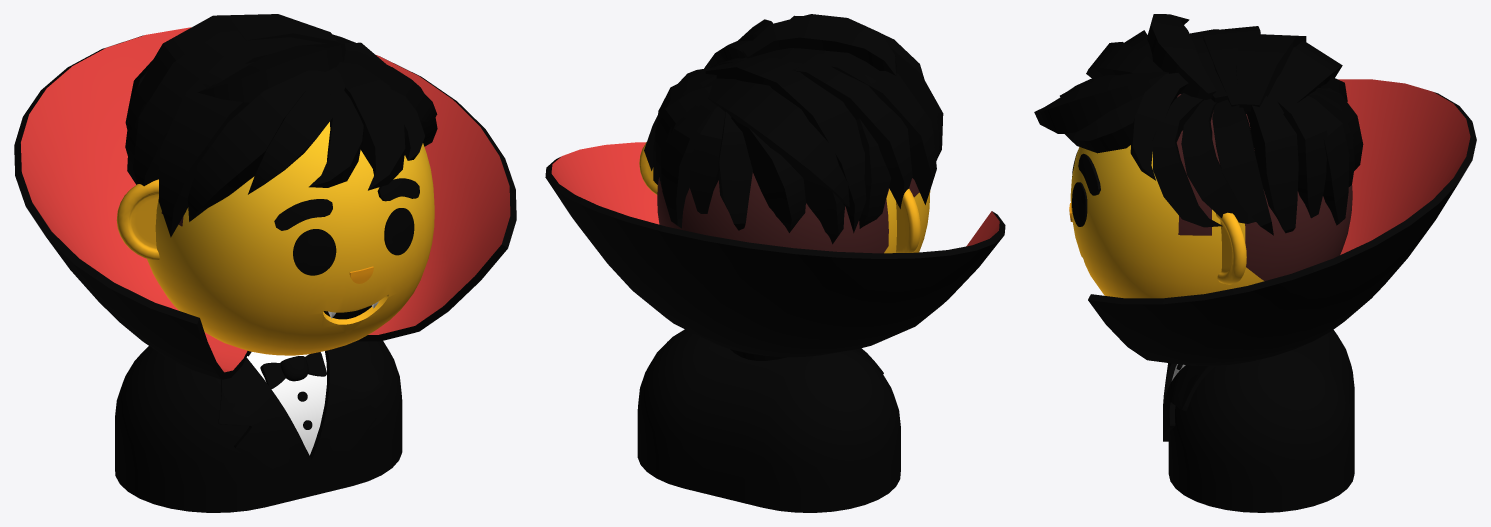
File: vampire.fbx
The picture shows the model from 3 angles, left to right: view 1: azimuth 30°, elevation 25°; view 2: azimuth 150°, elevation 25°; view 3: azimuth 270°, elevation 25°; orthographic projection. The views are drawn at different scales.
Parts seen in each view (by area): view 1: Circle.1025, Cube.2541, Roundcube.217, Sphere.172, Circle.1022, Circle.1019, Cylinder.185, Circle.1021, Circle.1023, Cube.2549; view 2: Cube.2541, Circle.1025, Sphere.172, Roundcube.217, Cylinder.185; view 3: Cube.2541, Circle.1025, Sphere.172, Roundcube.217, Circle.1022, Cylinder.185, Circle.1019, Circle.1021.
Boxes of the visible parts, x1=… form: Circle.1025: x1=14, y1=27, x2=516, y2=379; Cube.2541: x1=125, y1=14, x2=437, y2=237; Roundcube.217: x1=147, y1=122, x2=434, y2=355; Sphere.172: x1=115, y1=341, x2=402, y2=512; Circle.1022: x1=218, y1=341, x2=383, y2=482; Circle.1019: x1=293, y1=208, x2=414, y2=275; Cylinder.185: x1=116, y1=179, x2=159, y2=260; Circle.1021: x1=274, y1=178, x2=419, y2=230; Circle.1023: x1=260, y1=352, x2=326, y2=389; Cube.2549: x1=280, y1=356, x2=308, y2=381; Cube.2541: x1=644, y1=14, x2=943, y2=244; Circle.1025: x1=545, y1=142, x2=1005, y2=360; Sphere.172: x1=637, y1=329, x2=900, y2=512; Roundcube.217: x1=657, y1=172, x2=930, y2=253; Cylinder.185: x1=639, y1=142, x2=920, y2=252; Cube.2541: x1=1034, y1=14, x2=1363, y2=235; Circle.1025: x1=1088, y1=79, x2=1476, y2=365; Sphere.172: x1=1168, y1=330, x2=1354, y2=512; Roundcube.217: x1=1070, y1=94, x2=1352, y2=298; Circle.1022: x1=1163, y1=363, x2=1215, y2=441; Cylinder.185: x1=1216, y1=212, x2=1246, y2=284; Circle.1019: x1=1072, y1=151, x2=1087, y2=226; Circle.1021: x1=1078, y1=153, x2=1100, y2=195.
Size of the model in its own units: 253 by 248 by 238.
2 materials, 2 textured.
